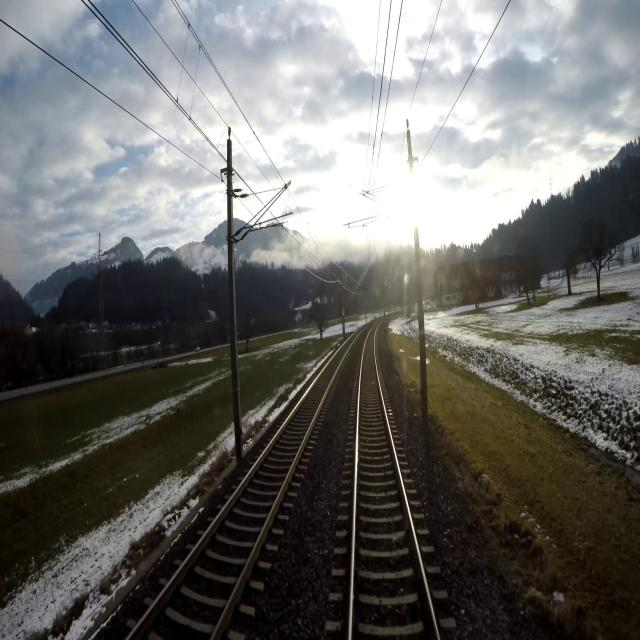rail-track: (131, 334, 355, 639), (352, 325, 436, 639)
